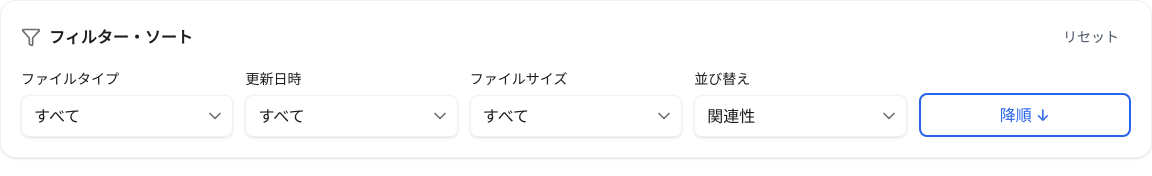
FilterPanel › ソート順変更テスト › ソート順ボタンクリックで昇順に切り替わること
Click the button "降順 ↓" at (1025, 115), box 919,93 -> 1131,137
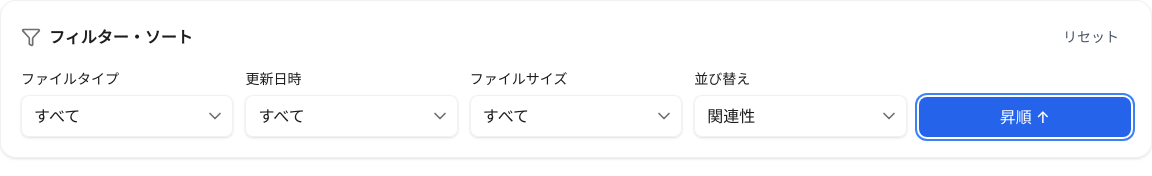
Result: the button "昇順 ↑" is shown at 919,97 -> 1131,137
